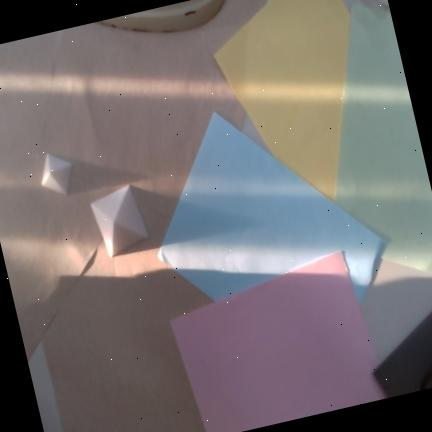Piramide: (90, 184, 150, 258), (41, 153, 72, 196)
